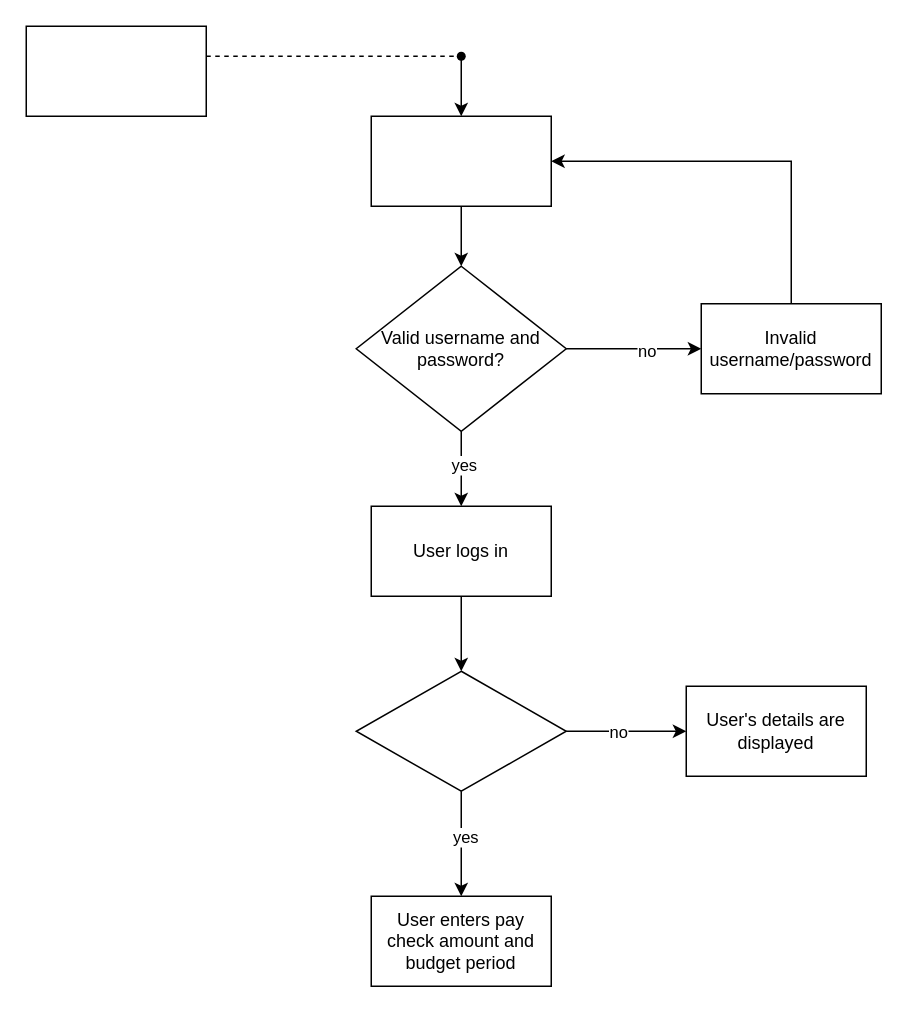
This 908x1013 diagram has some shape labels left out. The centre of each missing label's shape, as x and y in pixels:
"User enters username and password" belongs at (x=460, y=160).
"User is registered" belongs at (x=115, y=70).
"User starts budget?" belongs at (x=460, y=730).
